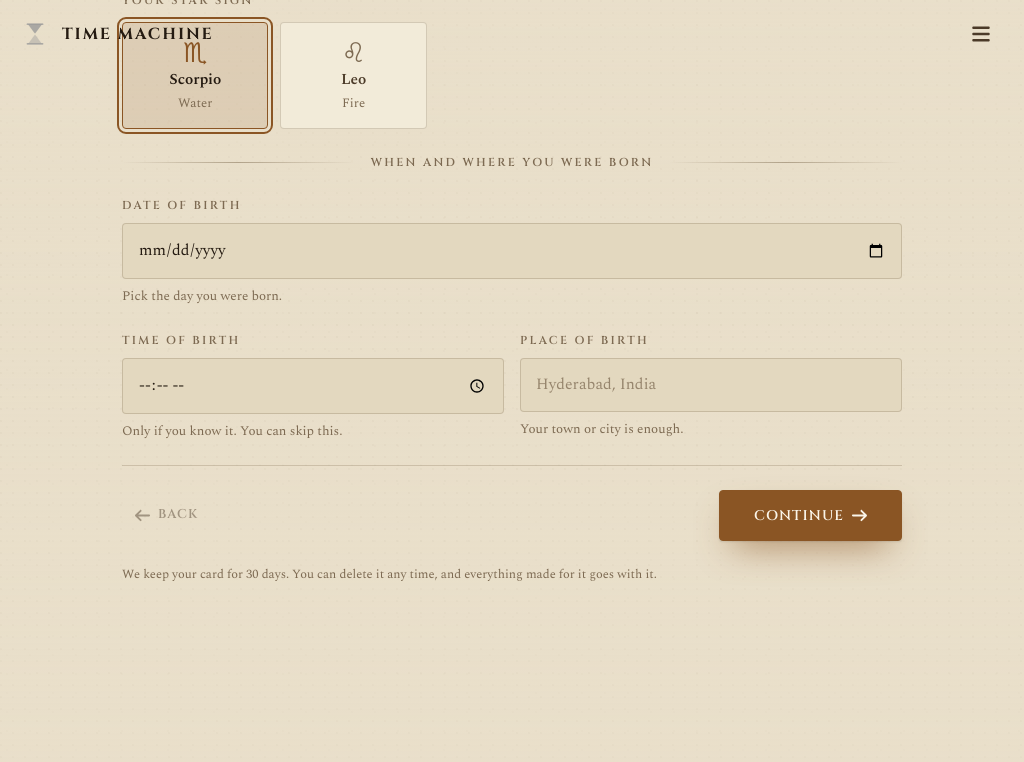
Past wizard › blocks submission until both boxes are ticked, then posts a past reading
Earlier steps of the test are not shown.
(page scrolled)
Type "Hyderabad" into the field labelled "Place of birth". click: (711, 385)
box: [520,358,902,412]
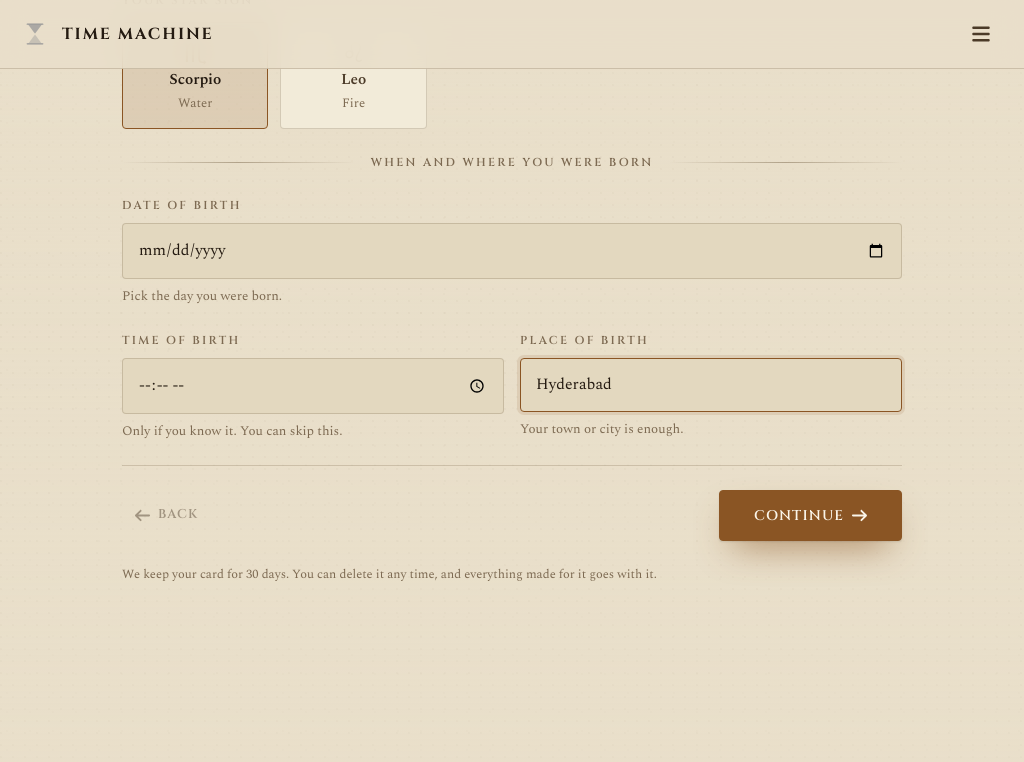
Click the button "Continue". click: (810, 516)
box: [719,490,902,541]
(page scrolled)
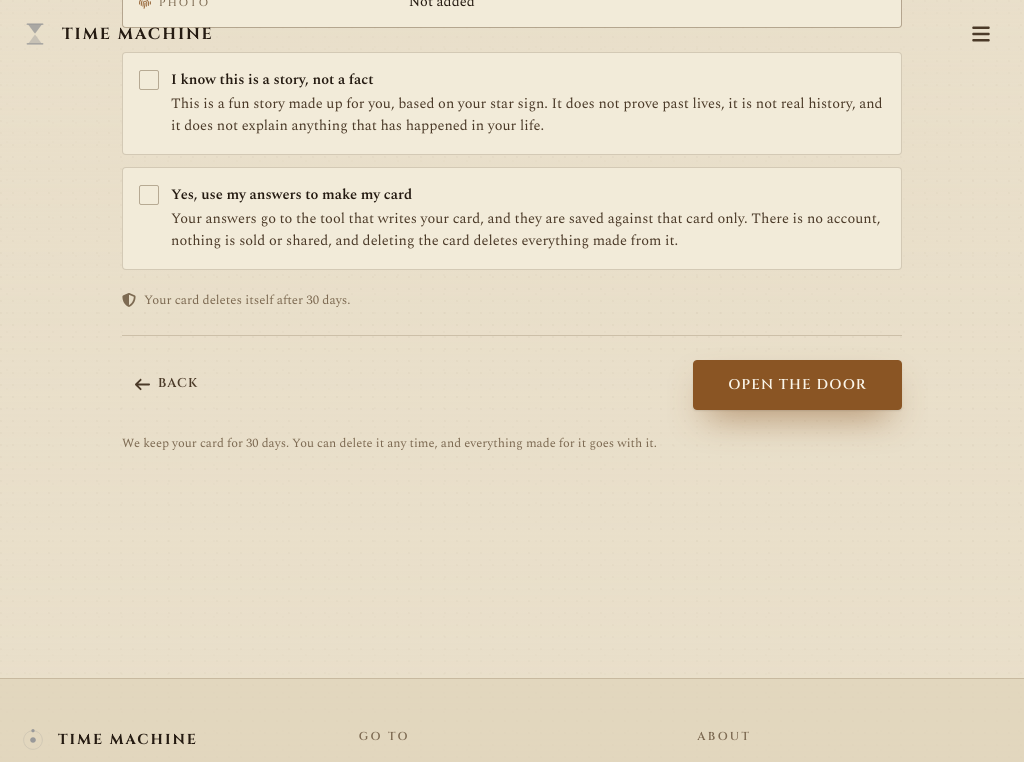
Click the button "Open the door". click: (798, 385)
box: [693,360,902,410]
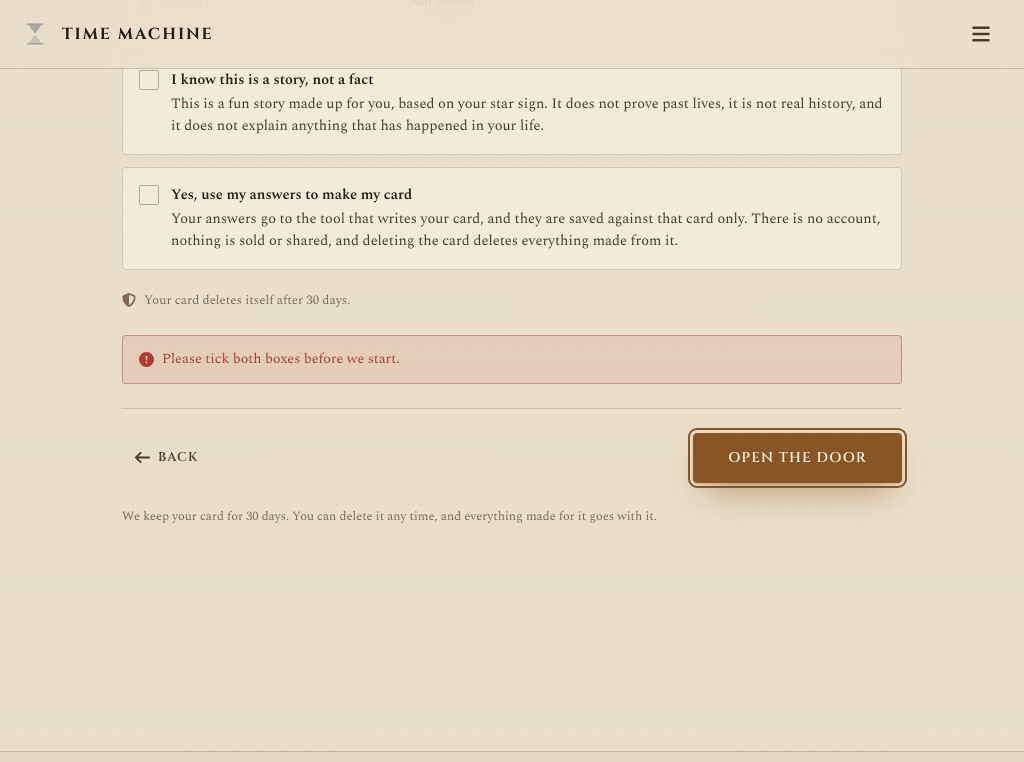
Now the message shows "Please tick both boxes", box [162,348,400,370]
Click the checkbox labelled "I know this is a story, not a fact". click: (512, 103)
box: [122,52,902,155]
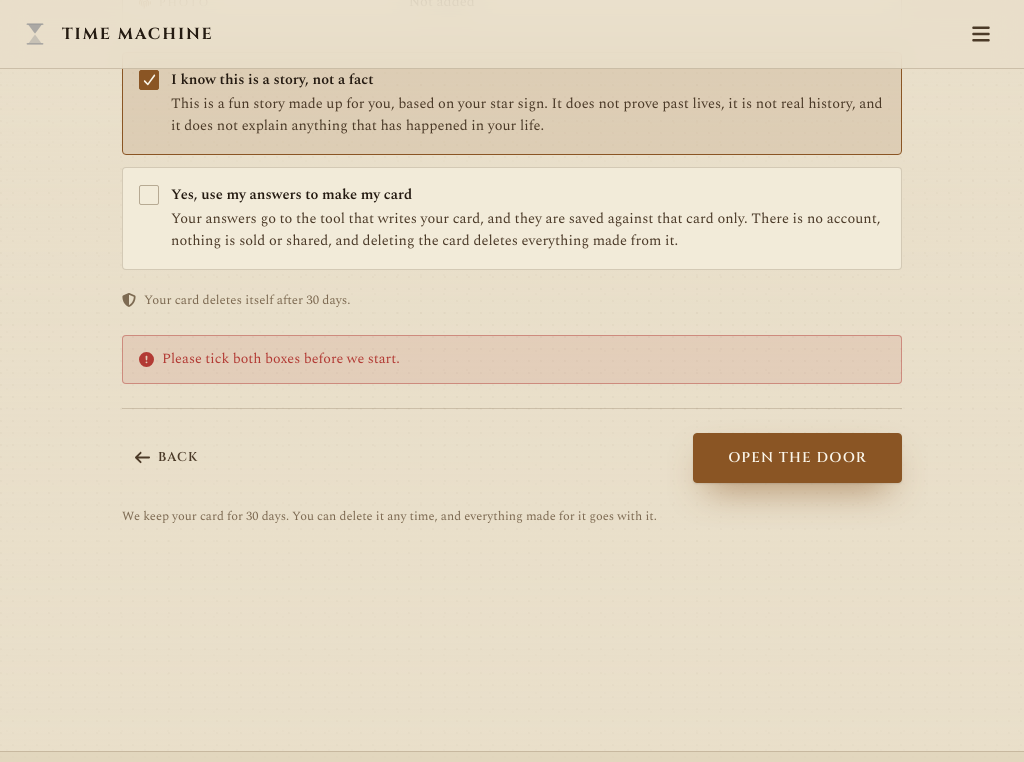
Click the checkbox labelled "Yes, use my answers to make my card". click: (512, 218)
box: [122,167,902,270]
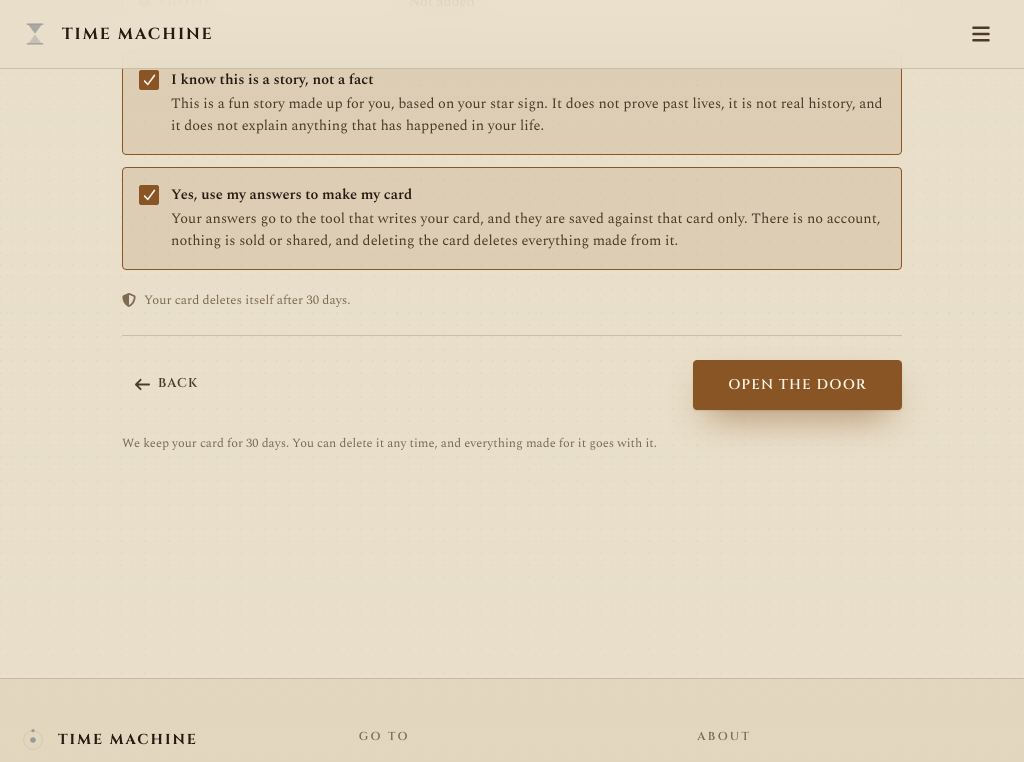
Click the button "Open the door". click: (798, 385)
box: [693,360,902,410]
(page scrolled)
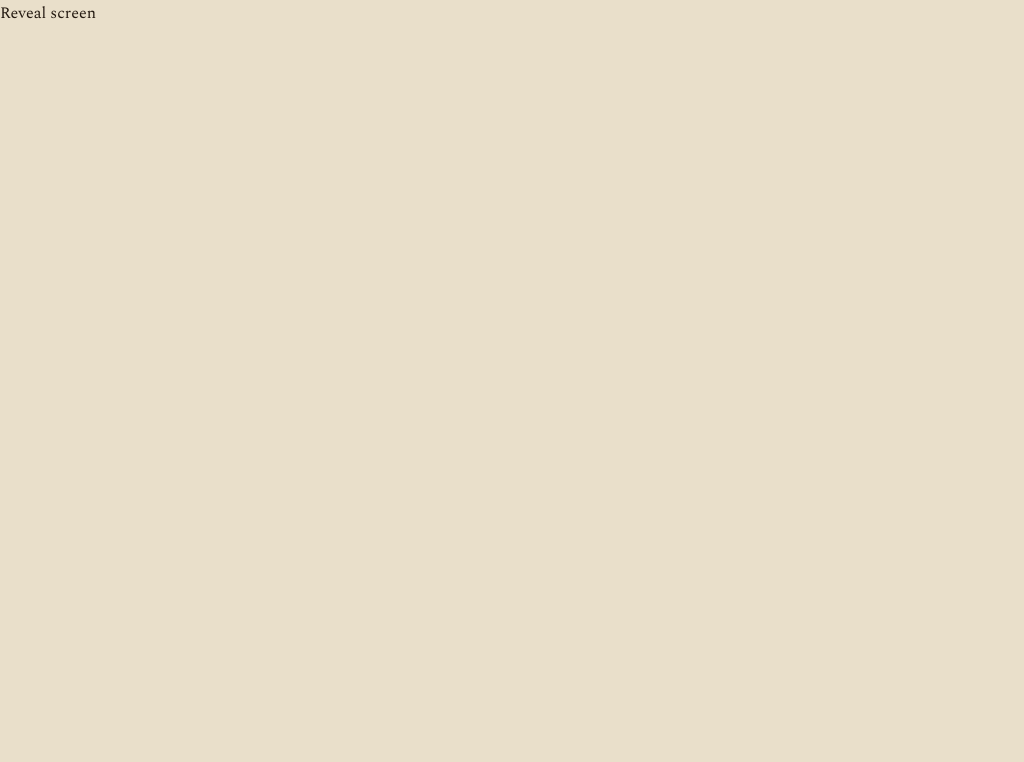
Now the text "Reveal screen" is shown, box [0,1,96,25]
